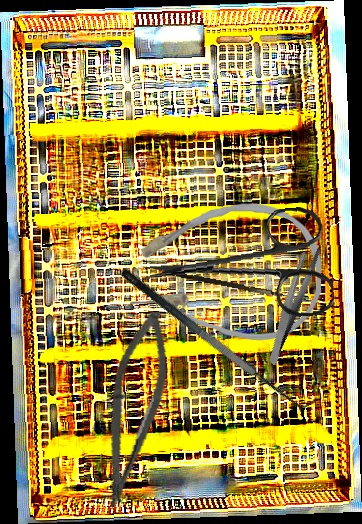Cannula: (130, 202, 321, 342)
Dressing Forceps: (240, 242, 345, 366)
Hook Surgical: (164, 267, 318, 304)
Iris Scissors: (136, 204, 336, 331)
Micro Scissor: (94, 307, 178, 513)
Spatula Surgical: (118, 251, 320, 423)
